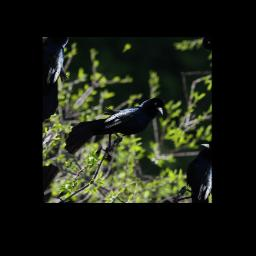Crow: (58, 68, 172, 181)
